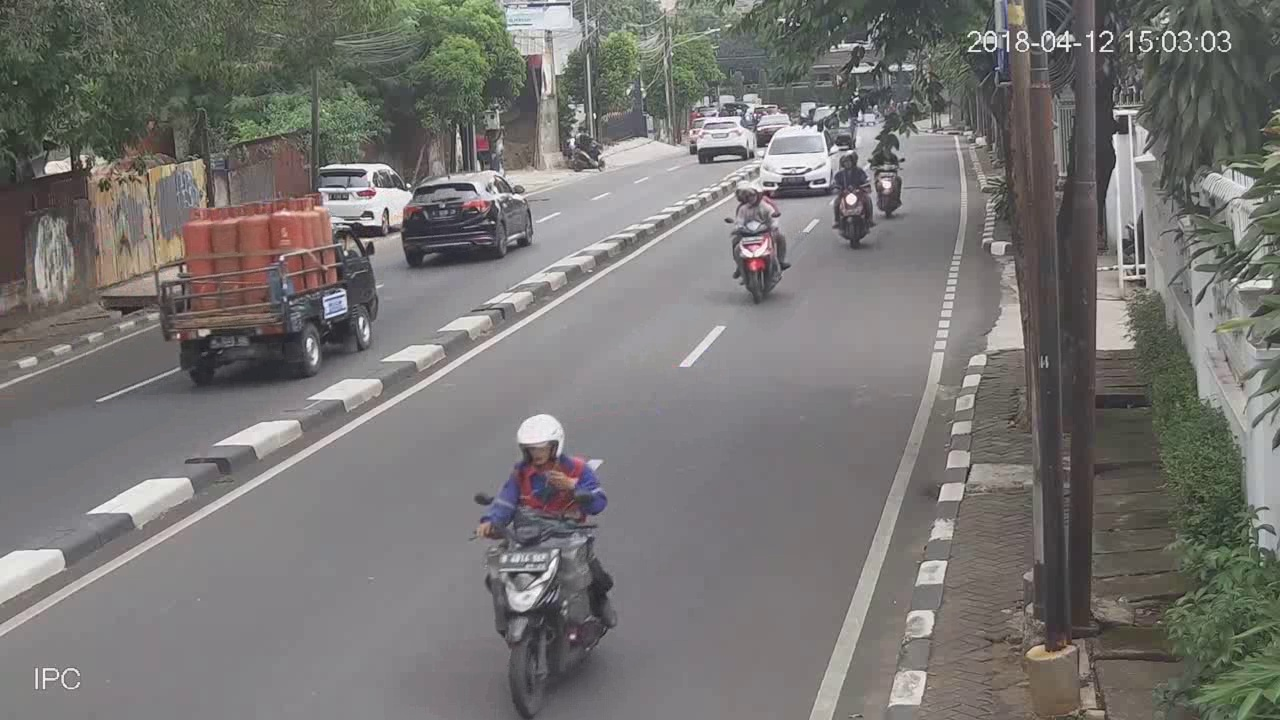car: (405, 172, 538, 269), (308, 162, 392, 231), (762, 127, 832, 199), (695, 112, 758, 164)
motorcycle: (451, 409, 625, 720), (724, 177, 796, 307), (828, 145, 877, 254), (866, 127, 911, 224)
truck: (139, 201, 389, 385)
